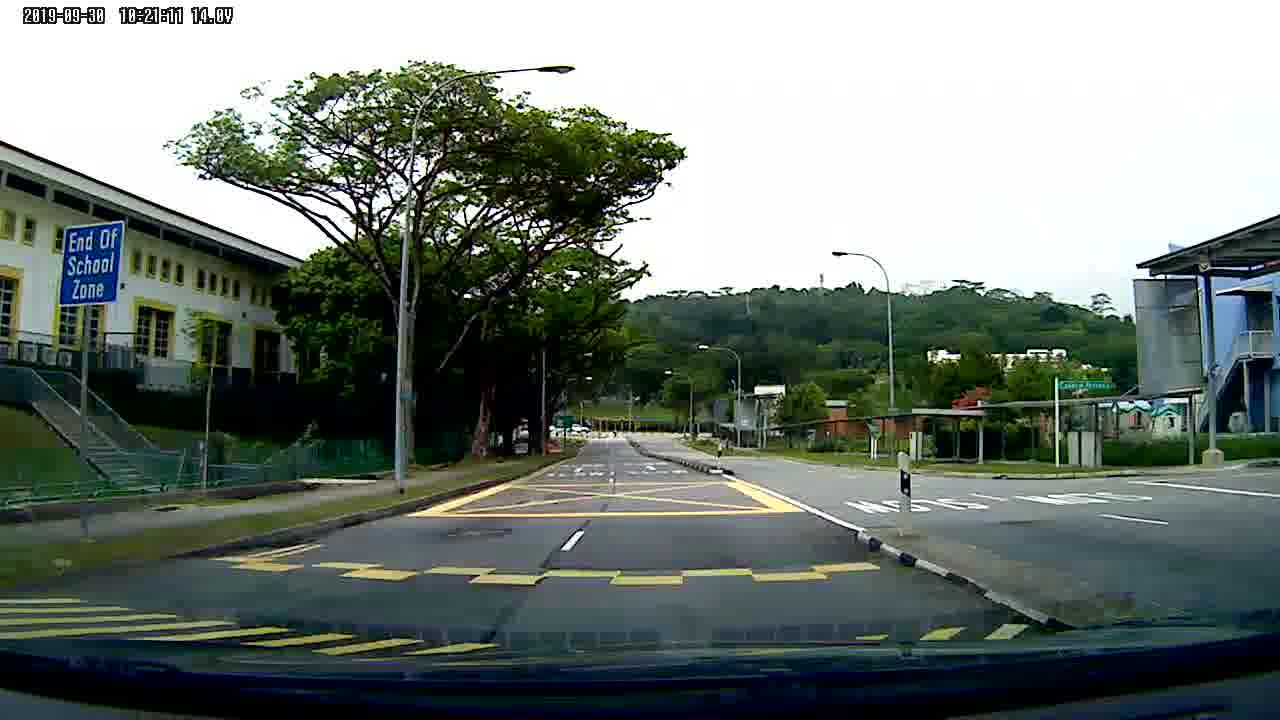car: (570, 422, 591, 434)
